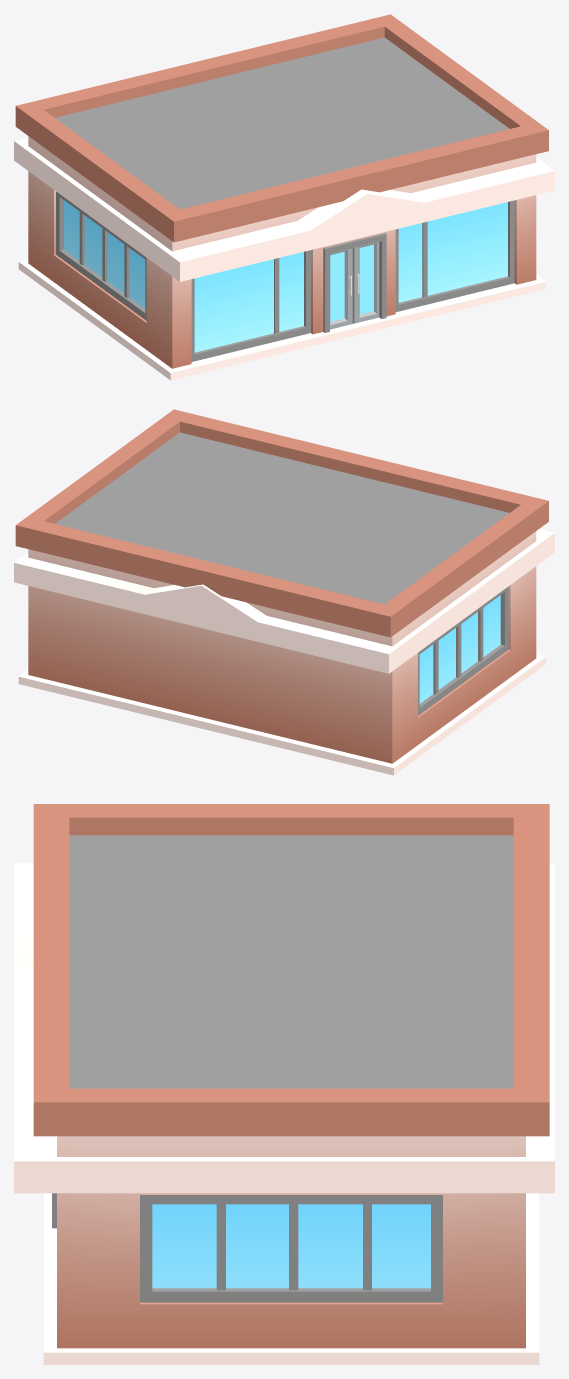
File: Building_Snack_04.glb
3 views of the same model, one above another, from view 1: azimuth 30°, elevation 25°; view 2: azimuth 150°, elevation 25°; view 3: azimuth 270°, elevation 25° (orthographic). The views are drawn at different scales.
Parts seen in each view (by area): view 1: Building_Snack_04; view 2: Building_Snack_04; view 3: Building_Snack_04.
Part boxes in pixels (box(x1,y1,x2,y2)): Building_Snack_04: box(14, 14, 554, 380); Building_Snack_04: box(14, 409, 554, 775); Building_Snack_04: box(14, 804, 554, 1364).
Bounding box in the file's own units: 10.75 × 4.41 × 8.24.
1 material, 1 textured.
